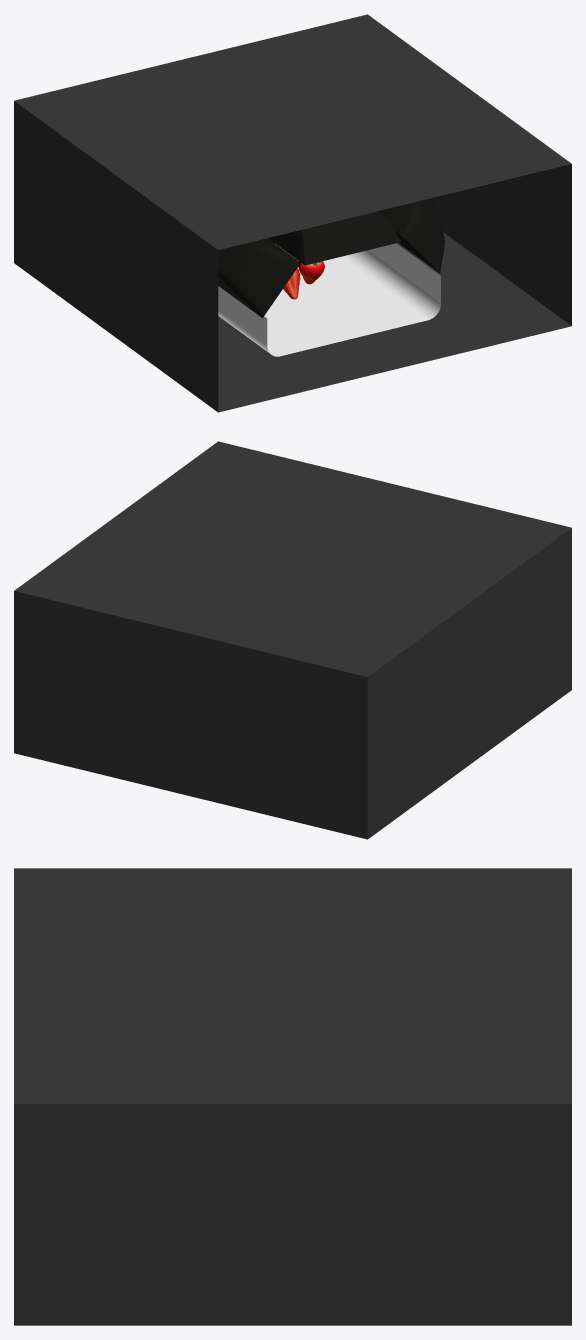
The model's file is Strawberry.fbx.
3 views of the same model, one above another, from view 1: azimuth 30°, elevation 25°; view 2: azimuth 150°, elevation 25°; view 3: azimuth 270°, elevation 25° (orthographic). The views are drawn at different scales.
Visible parts, largest first — view 1: Room, Studio_U, Softbox_Assembly, Softbox, Softbox_Assembly_2; view 2: Room; view 3: Room.
Part boxes in pixels (bbox=[...]): Room: bbox=[14, 14, 571, 412]; Studio_U: bbox=[218, 243, 440, 356]; Softbox_Assembly: bbox=[218, 238, 298, 316]; Softbox: bbox=[268, 211, 401, 265]; Softbox_Assembly_2: bbox=[378, 198, 444, 272]; Room: bbox=[14, 441, 571, 839]; Room: bbox=[14, 868, 571, 1325].
Bounding box in the file's own units: 3985 × 1748 × 3985.
Materials: 6 (1 with a texture image).
